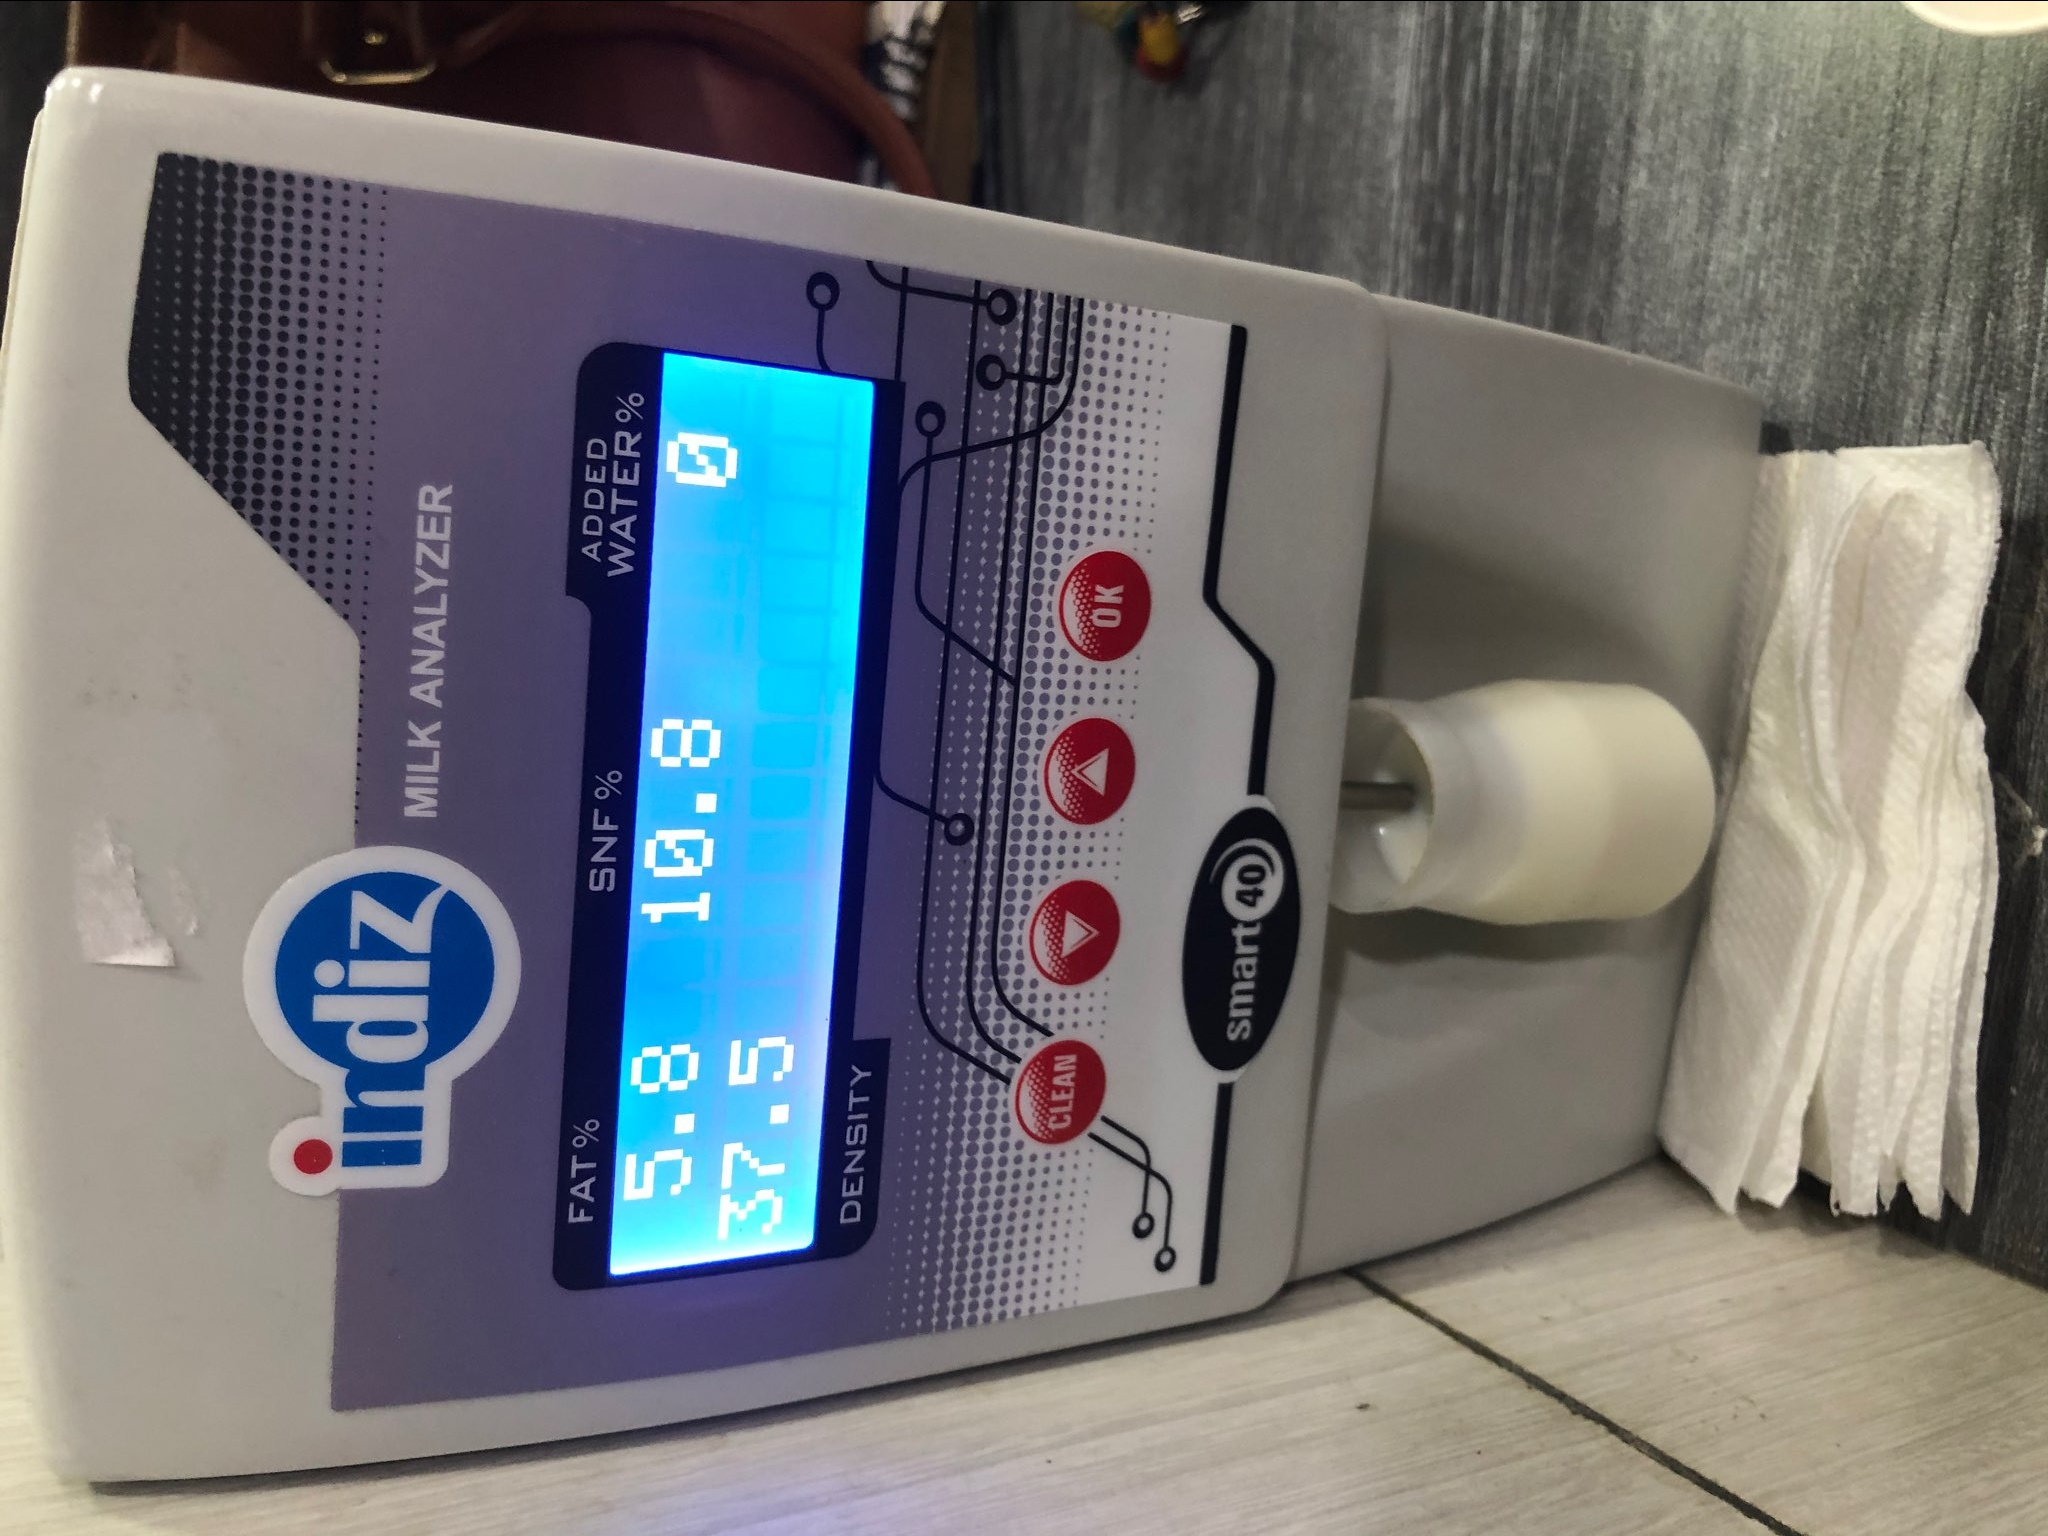lcd: (555, 336, 890, 1297)
